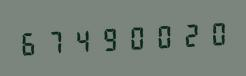four: (69, 22, 94, 57)
nine: (95, 21, 120, 56)
seven: (43, 24, 68, 58)
six: (17, 25, 42, 60)
two: (173, 17, 198, 52)
zero: (147, 18, 172, 53), (121, 20, 146, 54), (199, 16, 224, 50)
